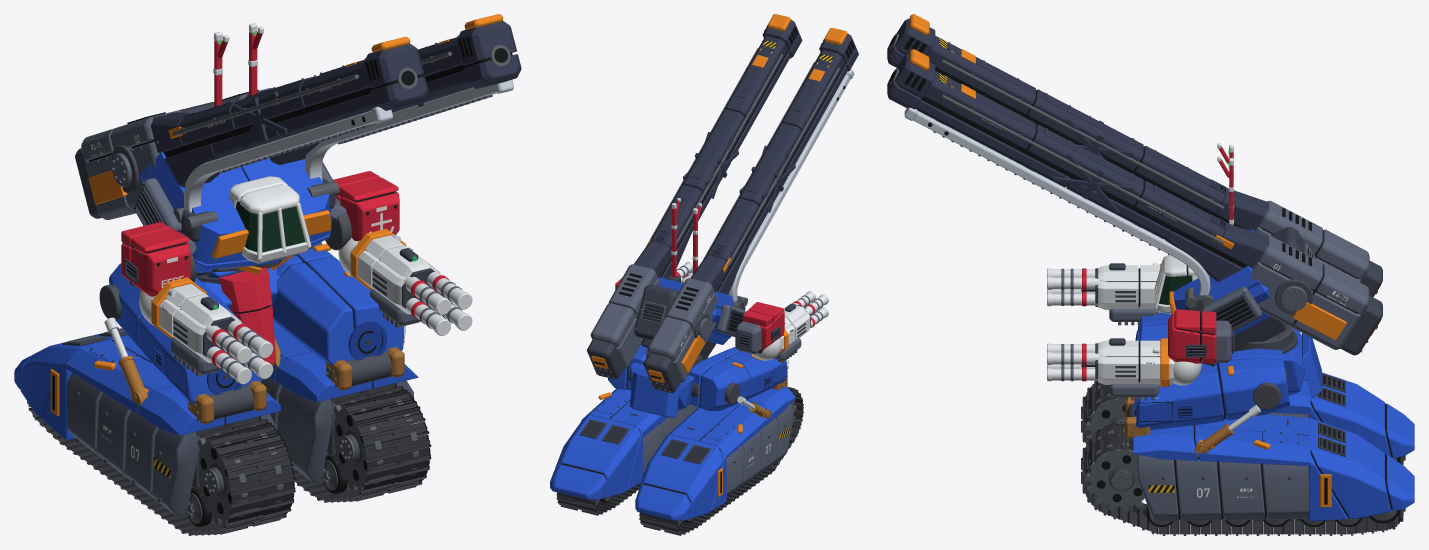
File: gq_guntank.glb
The picture shows the model from 3 angles, left to right: view 1: azimuth 30°, elevation 25°; view 2: azimuth 150°, elevation 25°; view 3: azimuth 270°, elevation 25°; orthographic projection. The views are drawn at different scales.
Parts seen in each view (by area): view 1: Track_Links_R, Skirt_Out_R, Thigh_L.001, Track_Links_L, Chest, Shin_Plate_R, Barrel_Upper_R, Skirt_In_L, Thigh_R.001, Barrel_Lower_R, Shoulder_Armor_R, Breech_R (+39 smaller); view 2: Foot_L, Foot_R, Barrel_Upper_R, Barrel_Upper_L, Thigh_R.001, Shin_Plate_R, Breech_R, Breech_L, Skirt_Out_R, Track_Links_R, Crane_Rail_R, Barrel_Top_Plates_R (+27 smaller); view 3: Skirt_Out_L, Barrel_Upper_L, Barrel_Upper_R, Thigh_L.001, Foot_L, Shin_Plate_L, Breech_L, Track_Links_L, Barrel_Lower_L, Foot_R, Crane_Rail_L, Breech_R (+31 smaller).
Boxes of the visible parts, box(x1,y1,x2,y2) form: Track_Links_R: box(27, 401, 295, 535); Skirt_Out_R: box(67, 372, 197, 516); Thigh_L.001: box(272, 243, 404, 365); Track_Links_L: box(275, 383, 431, 502); Chest: box(140, 152, 332, 273); Shin_Plate_R: box(65, 335, 281, 435); Barrel_Upper_R: box(151, 61, 369, 153); Skirt_In_L: box(261, 377, 332, 483); Thigh_R.001: box(109, 263, 262, 403); Barrel_Lower_R: box(165, 93, 375, 187); Shoulder_Armor_R: box(121, 222, 190, 296); Breech_R: box(81, 110, 182, 219); Foot_L: box(550, 415, 642, 500); Foot_R: box(635, 434, 726, 520); Barrel_Upper_R: box(690, 50, 844, 293); Barrel_Upper_L: box(634, 36, 788, 277); Thigh_R.001: box(688, 347, 787, 410); Shin_Plate_R: box(665, 387, 795, 457); Breech_R: box(647, 278, 718, 382); Breech_L: box(590, 264, 659, 369); Skirt_Out_R: box(726, 404, 793, 496); Track_Links_R: box(639, 386, 803, 535); Crane_Rail_R: box(728, 74, 850, 301); Barrel_Top_Plates_R: box(715, 60, 829, 250); Skirt_Out_L: box(1135, 454, 1308, 521); Barrel_Upper_L: box(924, 71, 1268, 268); Barrel_Upper_R: box(927, 36, 1268, 230); Thigh_L.001: box(1136, 348, 1289, 430); Foot_L: box(1308, 418, 1414, 521); Shin_Plate_L: box(1133, 414, 1310, 466); Breech_L: box(1250, 236, 1369, 349); Track_Links_L: box(1081, 423, 1405, 535); Barrel_Lower_L: box(916, 100, 1242, 281); Foot_R: box(1308, 372, 1414, 458); Crane_Rail_L: box(913, 111, 1210, 295); Breech_R: box(1254, 200, 1369, 282).
Bounding box in the file's own units: 6.65 × 14.78 × 15.26.
